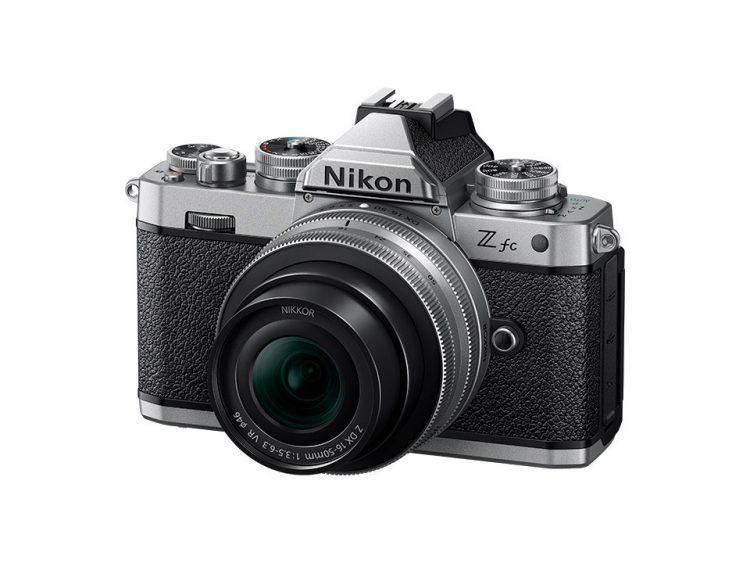degital-camera: (123, 80, 632, 491)
